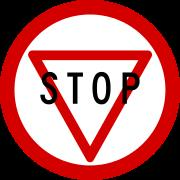Stop: (10, 18, 168, 172)
